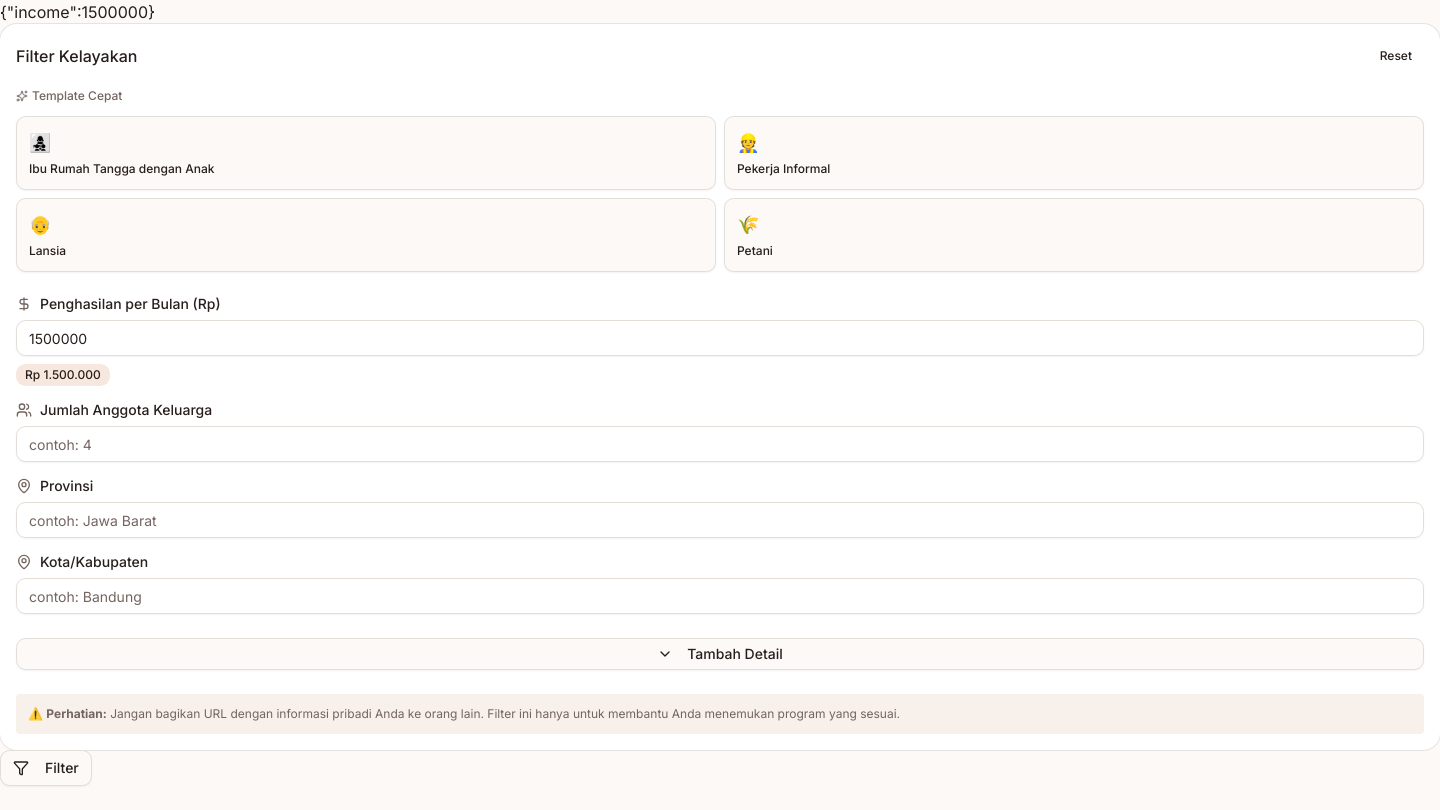
Filter State Synchronization › Requirement 1.4: Filter state persists when switching between access patterns › filter values persist after opening and closing modal
// Set filter in sidebar
Type "4" into the number field labelled "Jumlah Anggota Keluarga" at (720, 444), box x1=16 y1=426 x2=1424 y2=462
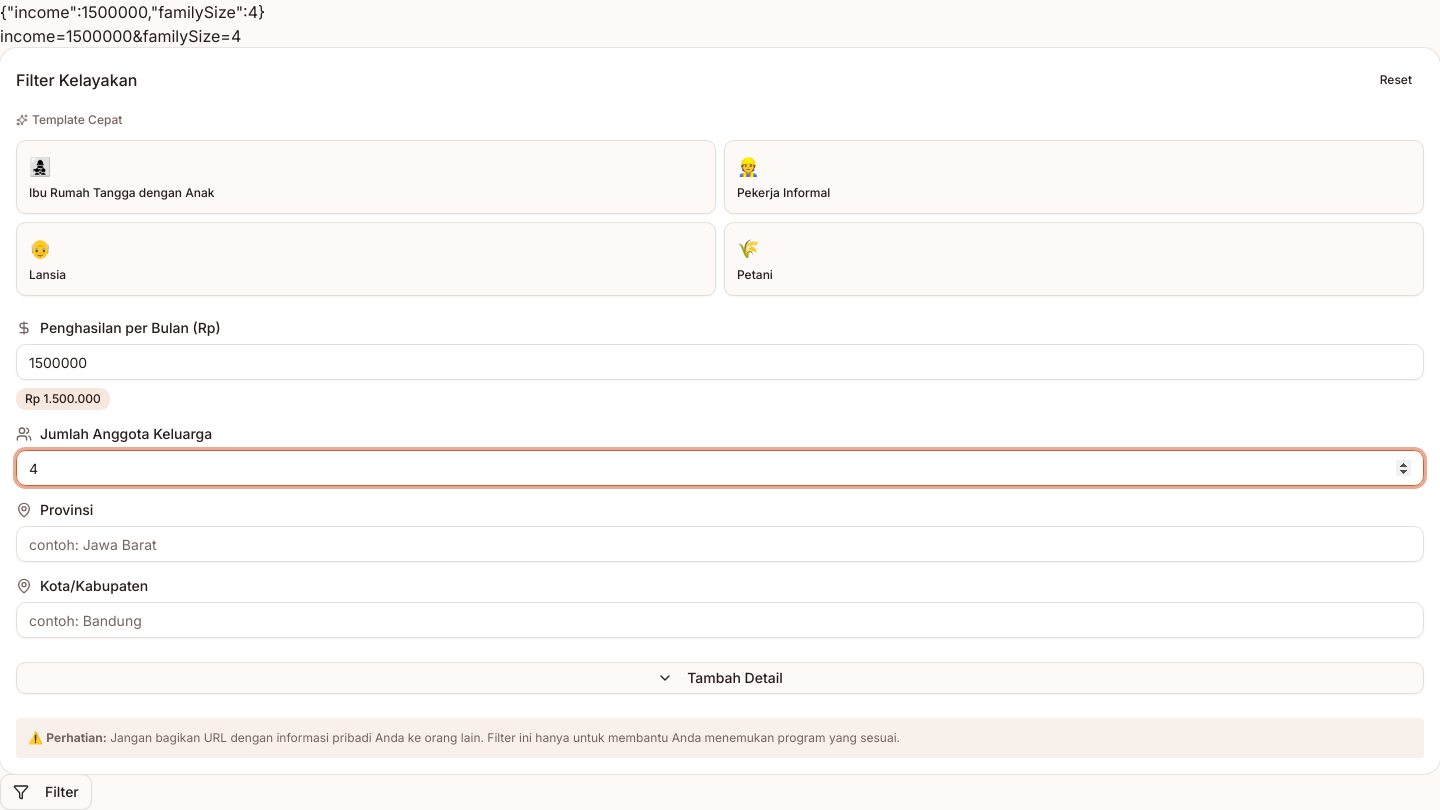
// Open modal
Click the button with aria-label "Buka filter kelayakan" at (46, 792), box x1=0 y1=774 x2=92 y2=809
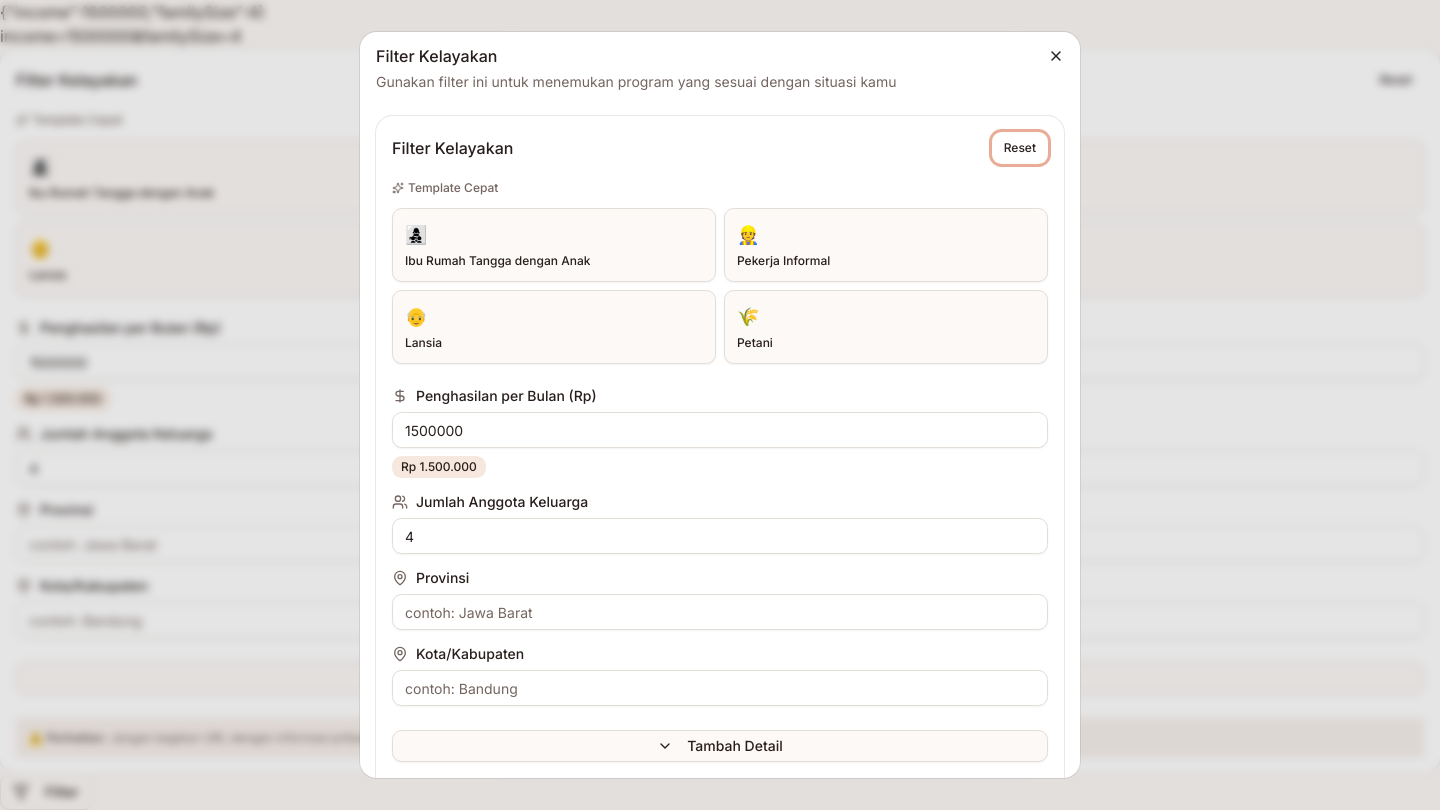
Now the dialog is shown, box x1=360 y1=32 x2=1080 y2=778
// Close modal (press Escape)
Press Escape
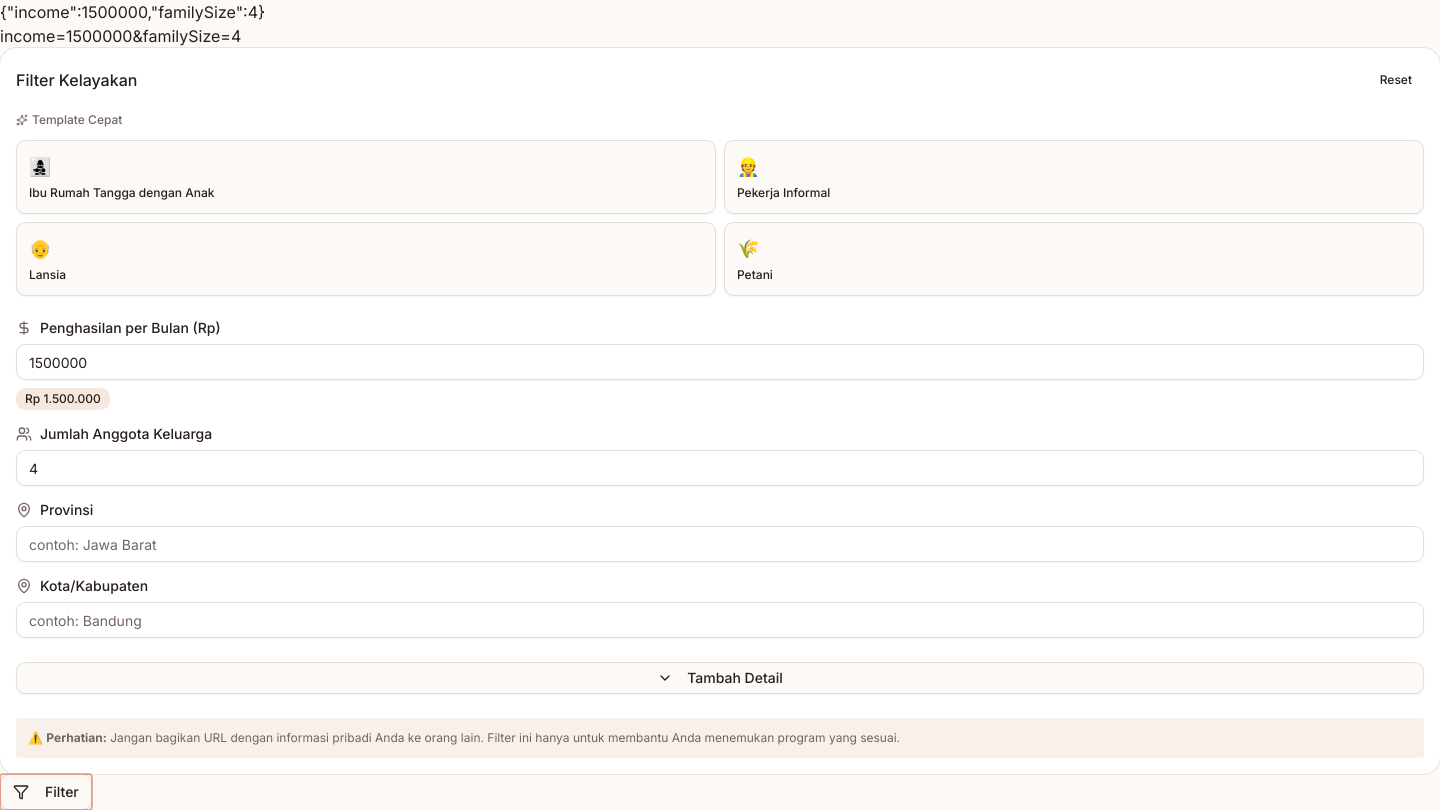
Now the text with test id "current-criteria" shows "4", box x1=0 y1=2 x2=265 y2=22
Now the dialog is gone
